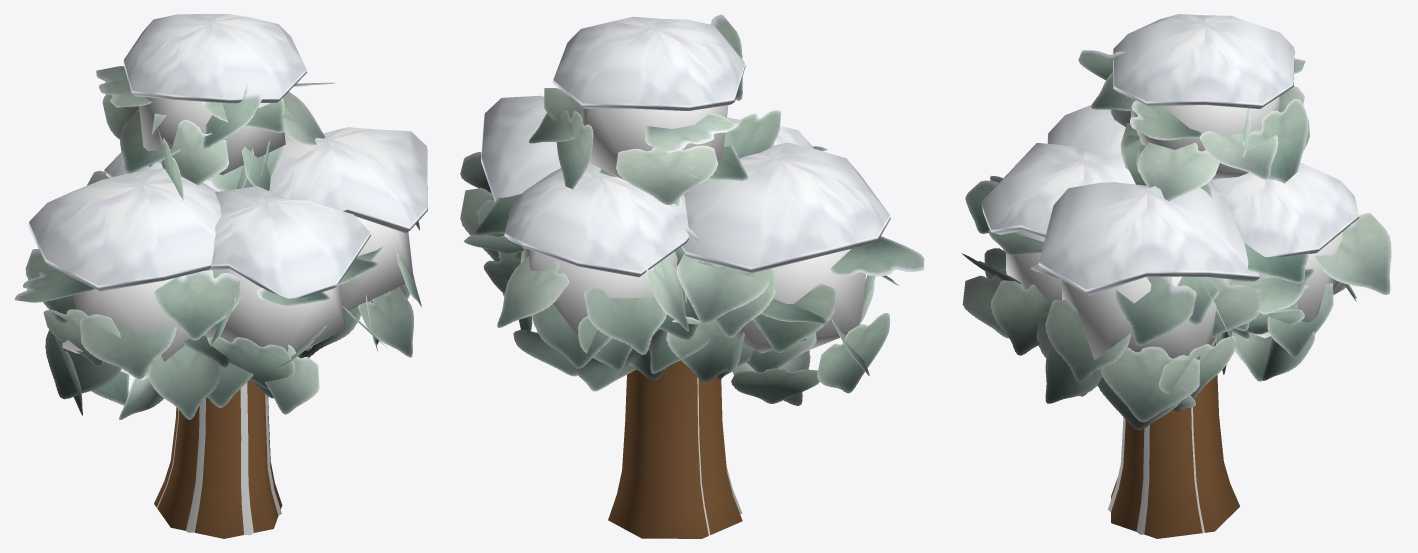
Rendered from tree-tall-winter.lod1.glb.
3 renders of one model, left to right at view 1: azimuth 30°, elevation 25°; view 2: azimuth 150°, elevation 25°; view 3: azimuth 270°, elevation 25°, orthographic. The views are drawn at different scales.
Visible parts, largest first — view 1: Crown, Hull, Trunk, Stem; view 2: Crown, Trunk, Hull; view 3: Crown, Trunk, Hull, Stem.
Boxes of the visible parts, x1=… form: Crown: x1=14, y1=14, x2=427, y2=419; Hull: x1=62, y1=97, x2=413, y2=379; Trunk: x1=154, y1=380, x2=282, y2=538; Stem: x1=156, y1=382, x2=281, y2=535; Crown: x1=460, y1=14, x2=924, y2=405; Trunk: x1=608, y1=360, x2=742, y2=538; Hull: x1=520, y1=105, x2=865, y2=353; Crown: x1=961, y1=14, x2=1391, y2=430; Trunk: x1=1111, y1=341, x2=1239, y2=538; Hull: x1=1006, y1=97, x2=1342, y2=359; Stem: x1=1108, y1=407, x2=1204, y2=534.
Bounding box in the file's own units: 3.19 × 3.44 × 2.86.
4 materials, 1 textured.
